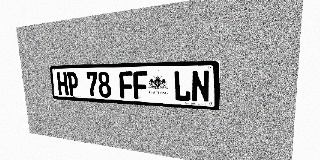7: (86, 71, 99, 97)
8: (97, 71, 111, 98)
F: (133, 71, 148, 100), (119, 71, 134, 99)
H: (56, 72, 69, 95)
L: (173, 70, 191, 102)
N: (191, 70, 210, 103)
P: (67, 72, 79, 96)
